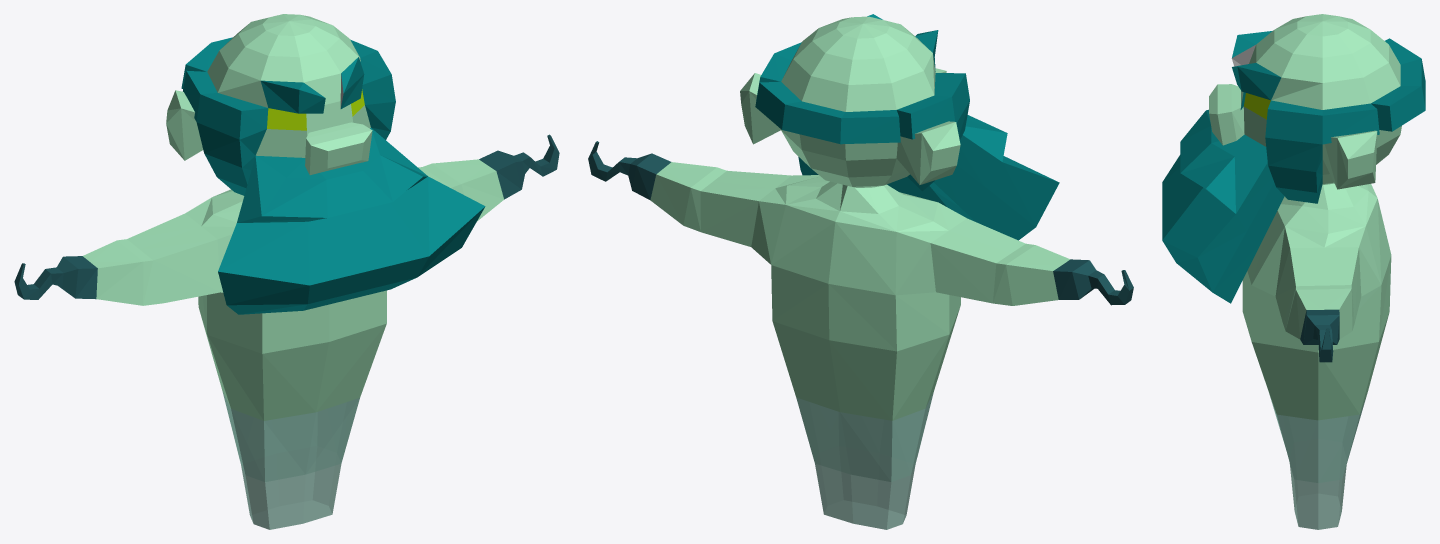
File: CapitanHooker2.fbx
3 views of the same model, side by side, from view 1: azimuth 30°, elevation 25°; view 2: azimuth 150°, elevation 25°; view 3: azimuth 270°, elevation 25° (orthographic).
Visible parts, largest first — view 1: pSphere3; view 2: pSphere3; view 3: pSphere3.
Part boxes in pixels (x1,y1,x2,y2): pSphere3: (14,14,559,529); pSphere3: (588,14,1133,529); pSphere3: (1162,14,1425,529).
Size of the model in its own units: 16.41 by 14.27 by 6.96.
